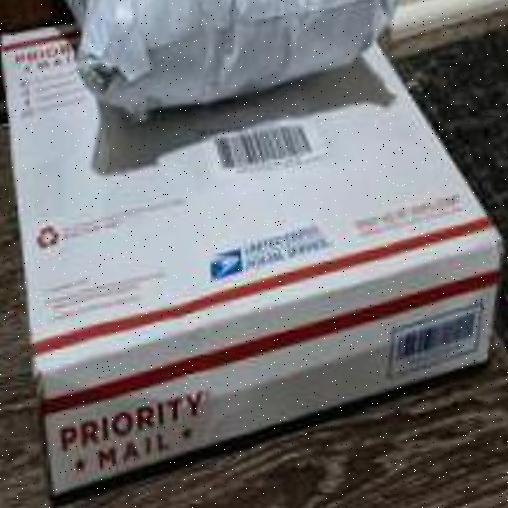Other: (0, 30, 498, 499), (66, 0, 401, 110)
